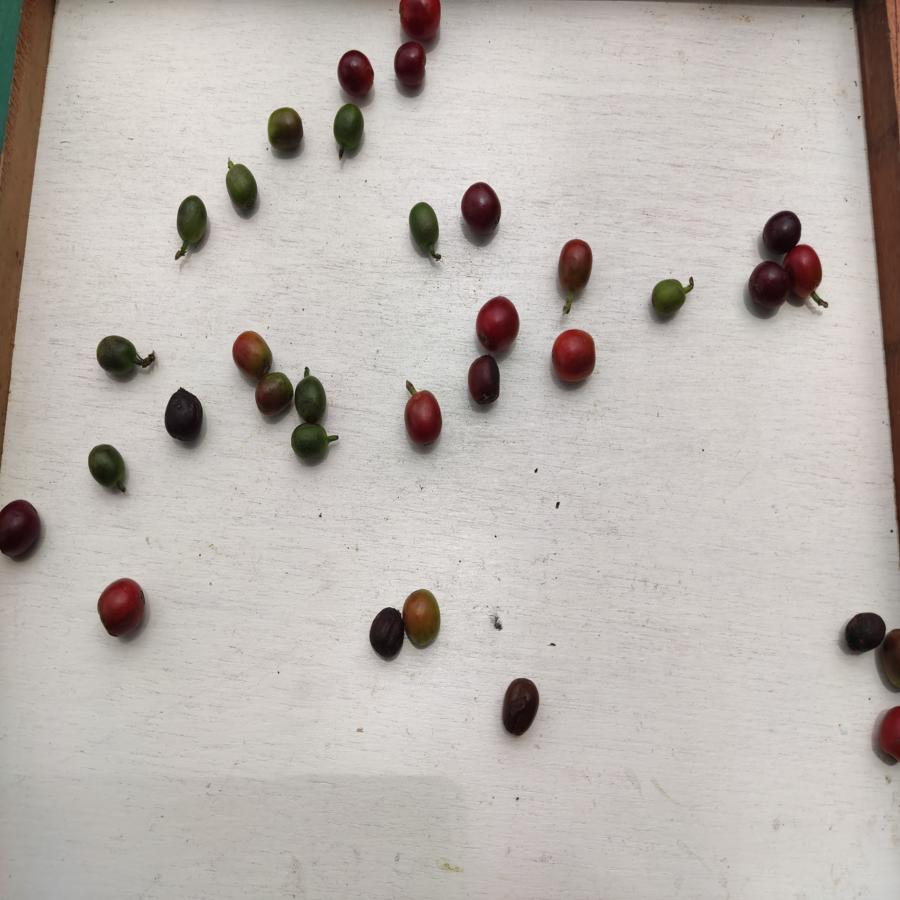Inmaduro: (93, 329, 141, 380), (404, 201, 444, 255), (223, 162, 261, 212), (86, 445, 131, 487), (295, 373, 326, 429), (333, 102, 366, 154), (176, 193, 207, 247), (290, 423, 331, 461), (650, 279, 685, 317)
Maduro: (550, 329, 603, 388), (95, 576, 146, 635), (401, 390, 445, 448), (393, 1, 453, 42), (786, 246, 824, 305), (476, 301, 522, 349), (559, 238, 596, 293)
Pinton: (404, 585, 445, 648), (229, 326, 274, 374), (266, 104, 303, 150), (254, 373, 292, 415)
Sobremaduro: (457, 182, 508, 238), (1, 498, 45, 559), (159, 388, 207, 443), (500, 678, 541, 738), (466, 355, 505, 411), (748, 261, 788, 314), (336, 48, 374, 98), (843, 612, 886, 655), (370, 606, 403, 658), (394, 41, 427, 92), (760, 209, 804, 247)
